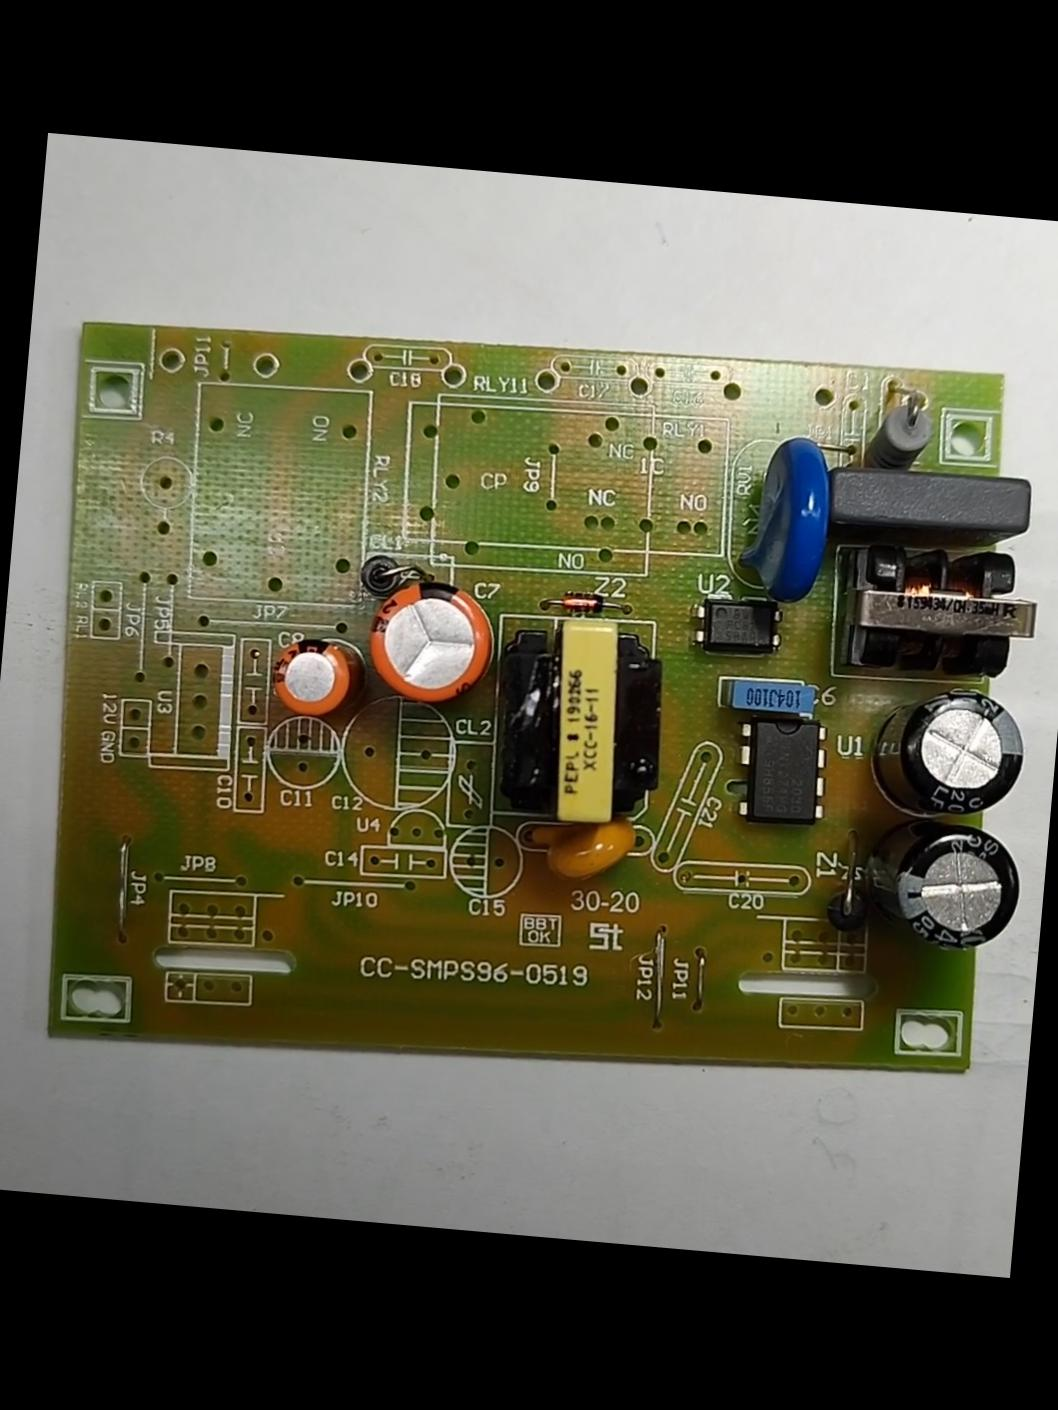Cap1: (368, 573, 496, 704)
Cap2: (264, 631, 358, 723)
Cap3: (870, 682, 1032, 829)
Cap4: (862, 817, 1027, 956)
MOSFET: (728, 711, 835, 831)
Mov: (727, 431, 840, 601)
Resistor: (856, 394, 934, 473)
Transformer: (493, 609, 675, 834), (840, 533, 1046, 681)
